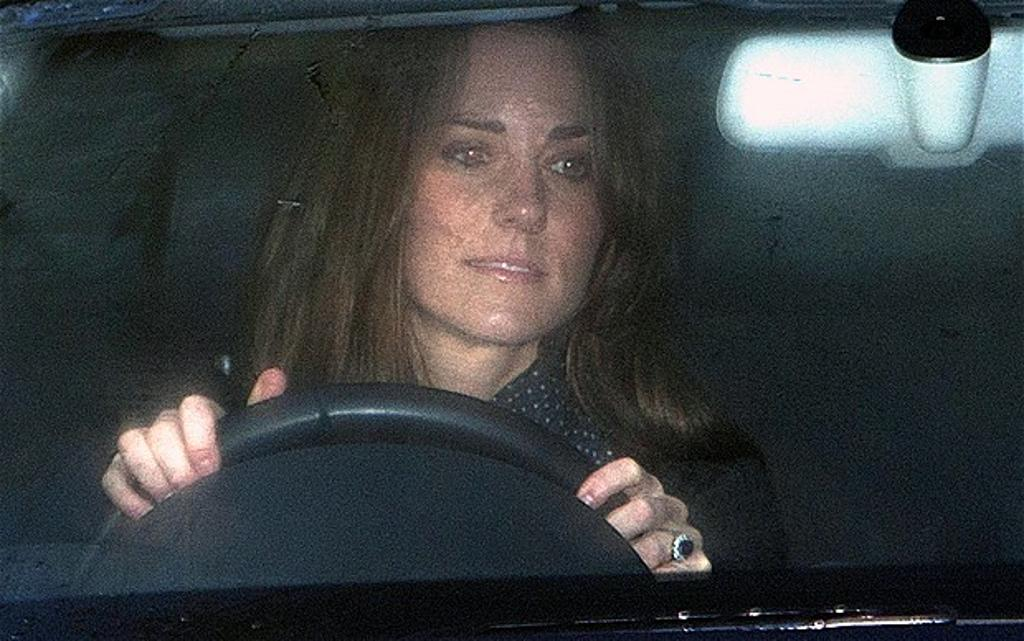face: (408, 34, 620, 340)
